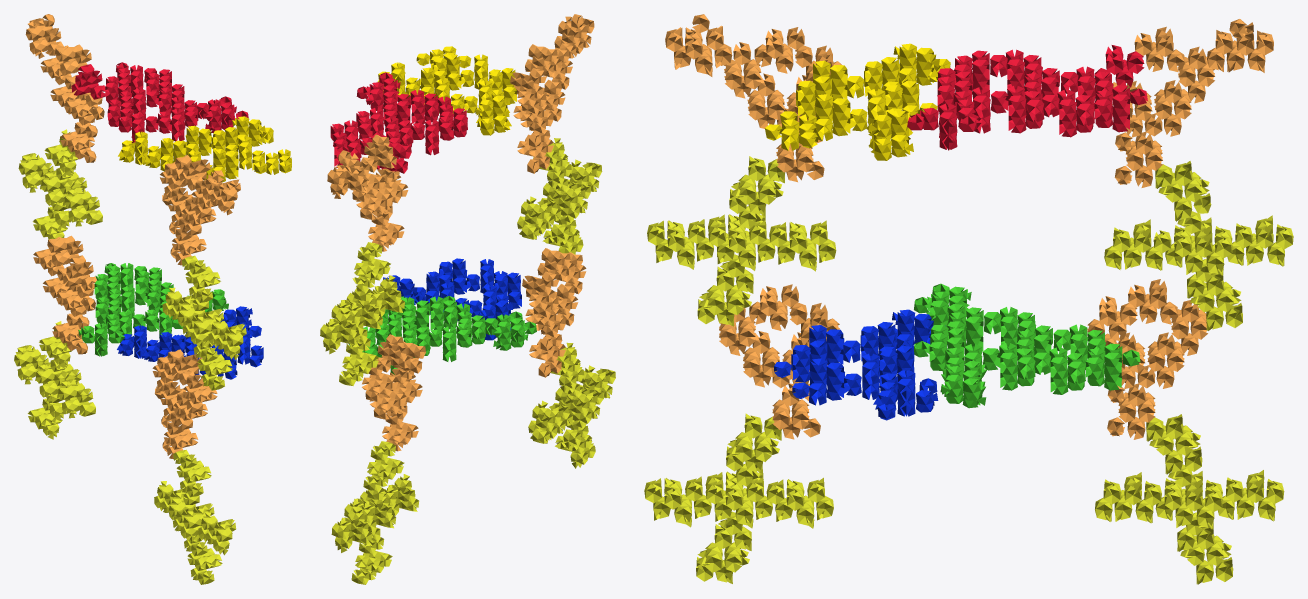
File: 06_DNA_intro.fbx
The picture shows the model from 3 angles, left to right: view 1: azimuth 30°, elevation 25°; view 2: azimuth 150°, elevation 25°; view 3: azimuth 270°, elevation 25°; orthographic projection. The views are drawn at different scales.
Visible parts, largest first — view 1: Body3 (×4), Body1 (×4), Body2 (×4); view 2: Body3 (×4), Body1 (×4), Body2 (×4); view 3: Body3 (×4), Body1 (×4), Body2 (×4).
Part boxes in pixels (box(x1,y1,x2,y2)): Body3 (×4): box(71, 62, 291, 379); Body1 (×4): box(14, 129, 246, 584); Body2 (×4): box(25, 14, 240, 458); Body3 (×4): box(330, 46, 536, 374); Body1 (×4): box(320, 138, 615, 584); Body2 (×4): box(327, 14, 594, 451); Body3 (×4): box(765, 43, 1147, 420); Body1 (×4): box(644, 156, 1293, 584); Body2 (×4): box(665, 14, 1273, 439).
Bounding box in the file's own units: 816 × 1961 × 1965.
